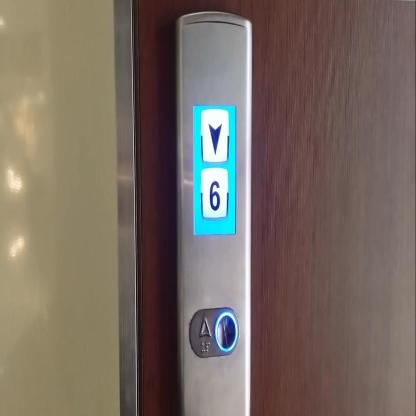led: (192, 100, 237, 237)
up: (187, 301, 240, 360)
